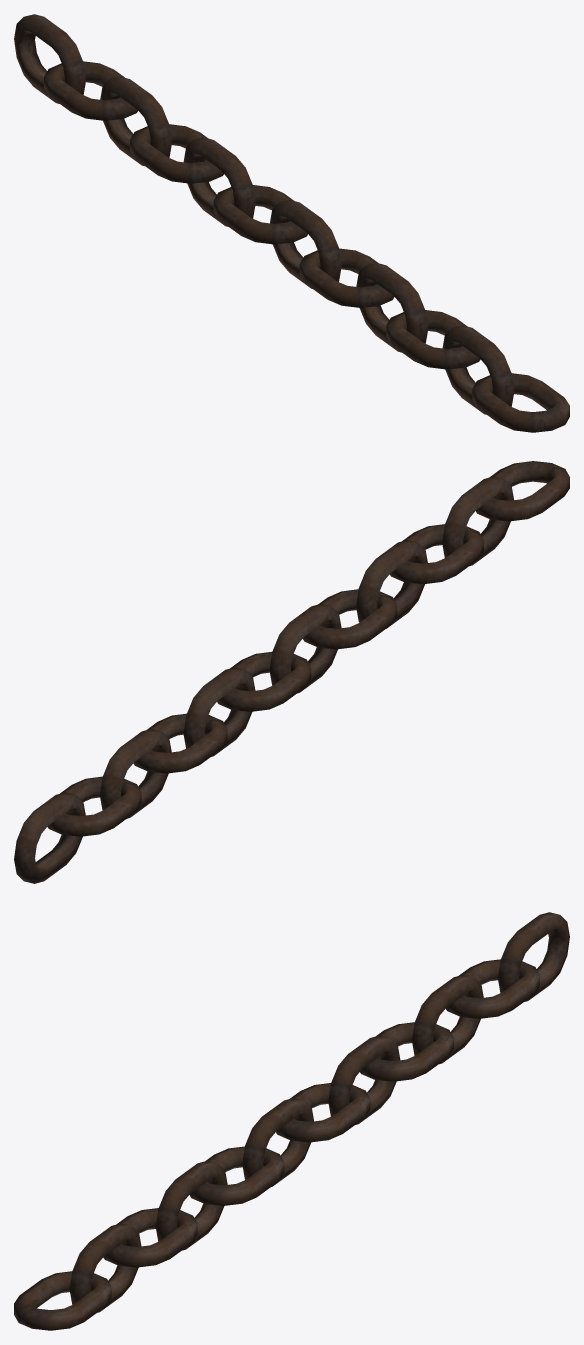
Rendered from sm_Chandelier_01_02.fbx.
The picture shows the model from 3 angles, top to bottom: view 1: azimuth 30°, elevation 25°; view 2: azimuth 150°, elevation 25°; view 3: azimuth 330°, elevation 25°; orthographic projection.
Parts seen in each view (by area): view 1: sm_Chandelier_01_02_LOD0; view 2: sm_Chandelier_01_02_LOD0; view 3: sm_Chandelier_01_02_LOD0.
Part boxes in pixels (x1,y1,x2,y2): sm_Chandelier_01_02_LOD0: (14, 14, 569, 432); sm_Chandelier_01_02_LOD0: (14, 461, 569, 883); sm_Chandelier_01_02_LOD0: (14, 912, 569, 1330).
Bounding box in the file's own units: 5.79 × 82.79 × 6.
